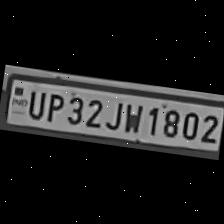0: (178, 106, 200, 140)
1: (140, 101, 162, 135)
2: (81, 93, 105, 128), (197, 108, 221, 142)
3: (62, 90, 86, 125)
8: (158, 104, 182, 138)
J: (103, 96, 125, 131)
P: (42, 88, 66, 122)
U: (22, 85, 46, 119)
W: (119, 98, 146, 134)
